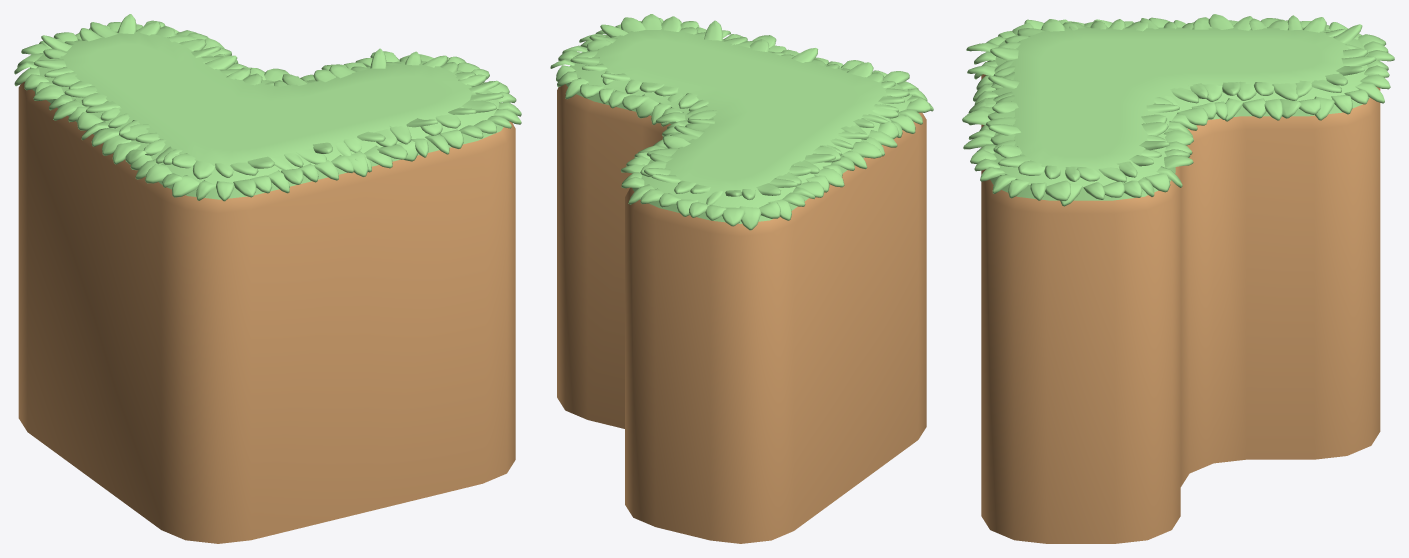
The model's file is Cliffs_2x2_L.fbx.
3 renders of one model, left to right at view 1: azimuth 30°, elevation 25°; view 2: azimuth 150°, elevation 25°; view 3: azimuth 270°, elevation 25°, orthographic. The views are drawn at different scales.
Parts seen in each view (by area): view 1: 2x2_L_Cliff, 2x2_L_Blades; view 2: 2x2_L_Cliff, 2x2_L_Blades; view 3: 2x2_L_Cliff, 2x2_L_Blades.
Part boxes in pixels (left/top/right/bottom): 2x2_L_Cliff: left=18, top=29, right=515, bottom=543; 2x2_L_Blades: left=14, top=14, right=521, bottom=201; 2x2_L_Cliff: left=557, top=29, right=926, bottom=543; 2x2_L_Blades: left=550, top=14, right=933, bottom=230; 2x2_L_Cliff: left=981, top=27, right=1380, bottom=543; 2x2_L_Blades: left=962, top=14, right=1394, bottom=206.
Size of the model in its own units: 214 by 205 by 217.
